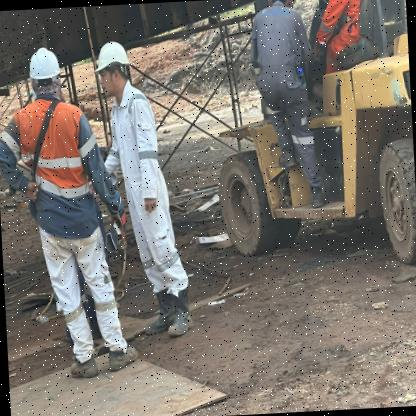bota: (166, 282, 196, 336), (142, 291, 174, 332), (104, 340, 140, 373), (306, 168, 333, 208), (62, 352, 100, 380), (272, 144, 302, 168)
